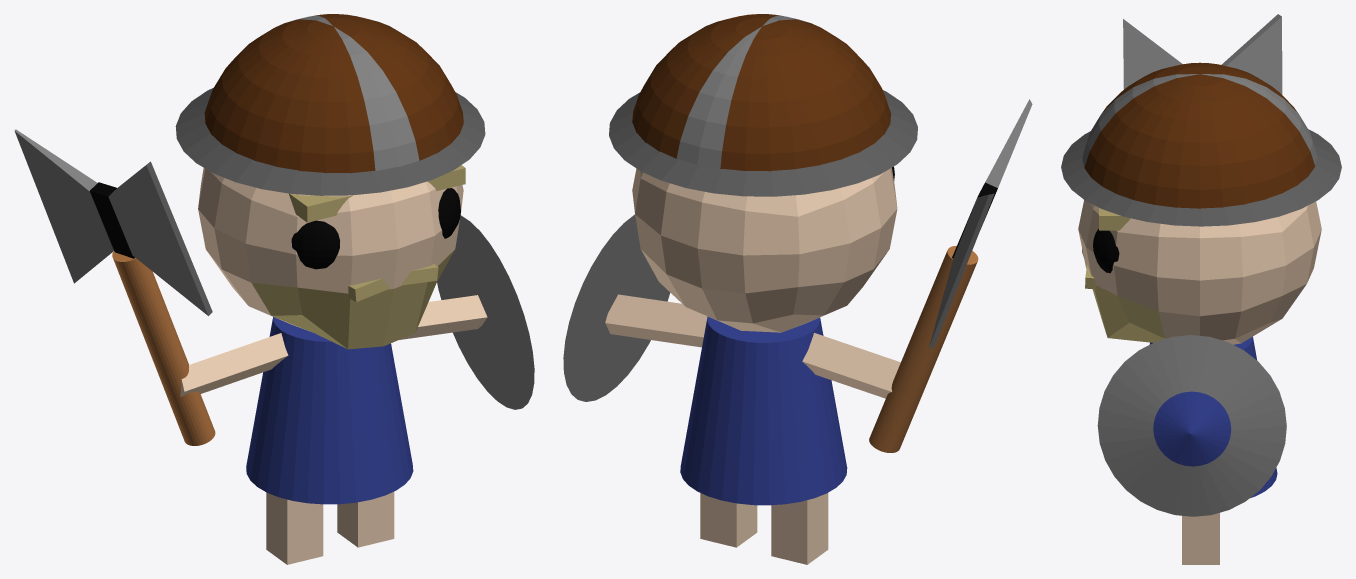
The model's file is charagerman.fbx.
The picture shows the model from 3 angles, left to right: view 1: azimuth 30°, elevation 25°; view 2: azimuth 150°, elevation 25°; view 3: azimuth 270°, elevation 25°; orthographic projection. The views are drawn at different scales.
Visible parts, largest first — view 1: Roundcube.001; view 2: Roundcube.001; view 3: Roundcube.001.
Boxes of the visible parts, x1,y1,x2,y2 form: Roundcube.001: (14, 14, 534, 564); Roundcube.001: (563, 14, 1032, 564); Roundcube.001: (1061, 14, 1341, 564).
Size of the model in its own units: 386 by 424 by 231.
